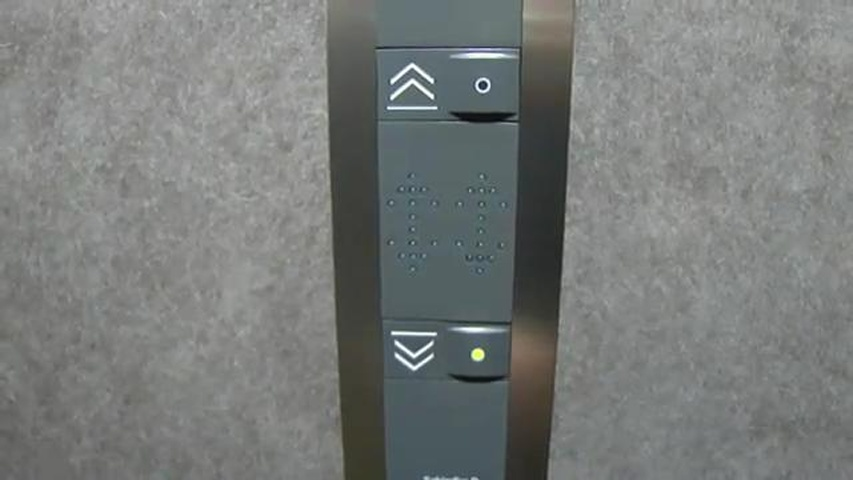down: (379, 312, 513, 387)
up: (369, 41, 522, 130)
